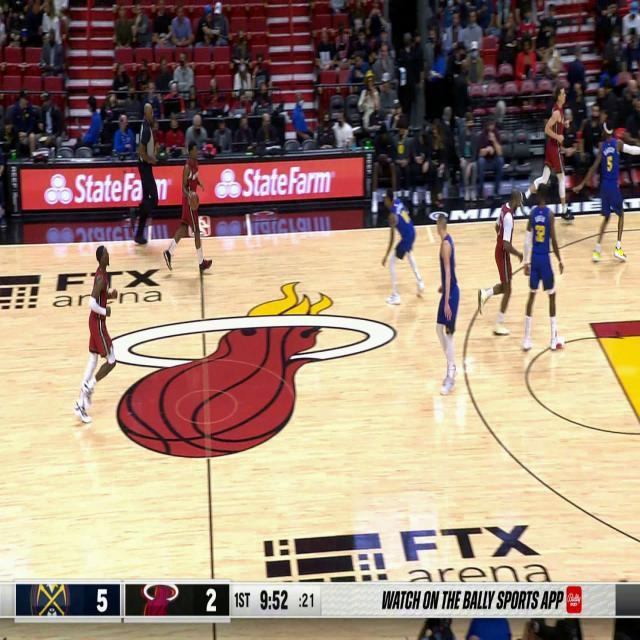rim: (190, 194, 198, 208)
